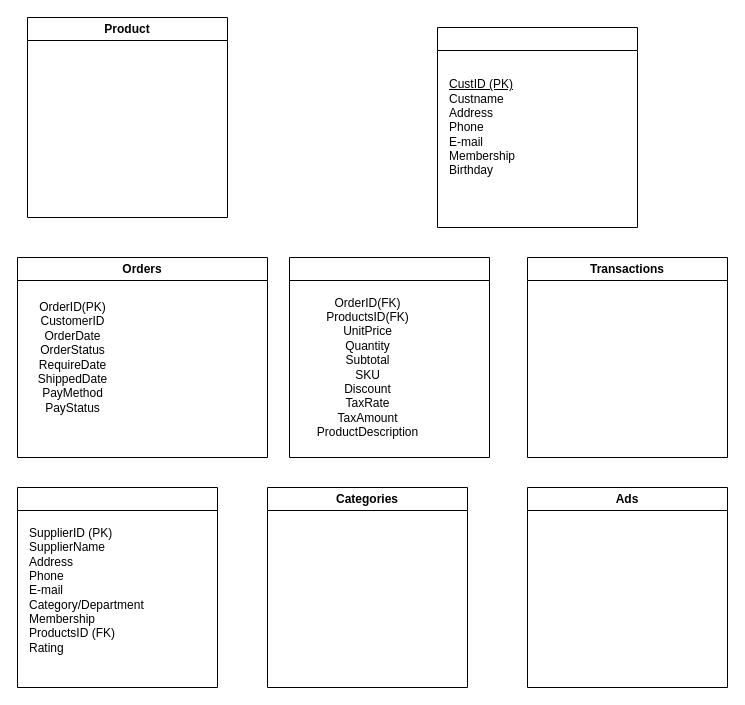
This 745x705 diagram has some shape labels left out. Here are the shapes that lost their labels. From the top down, the box of each, then its label:
(436, 26, 638, 228): Customers
(288, 256, 490, 458): Orders Details
(16, 486, 218, 688): Suppliers
